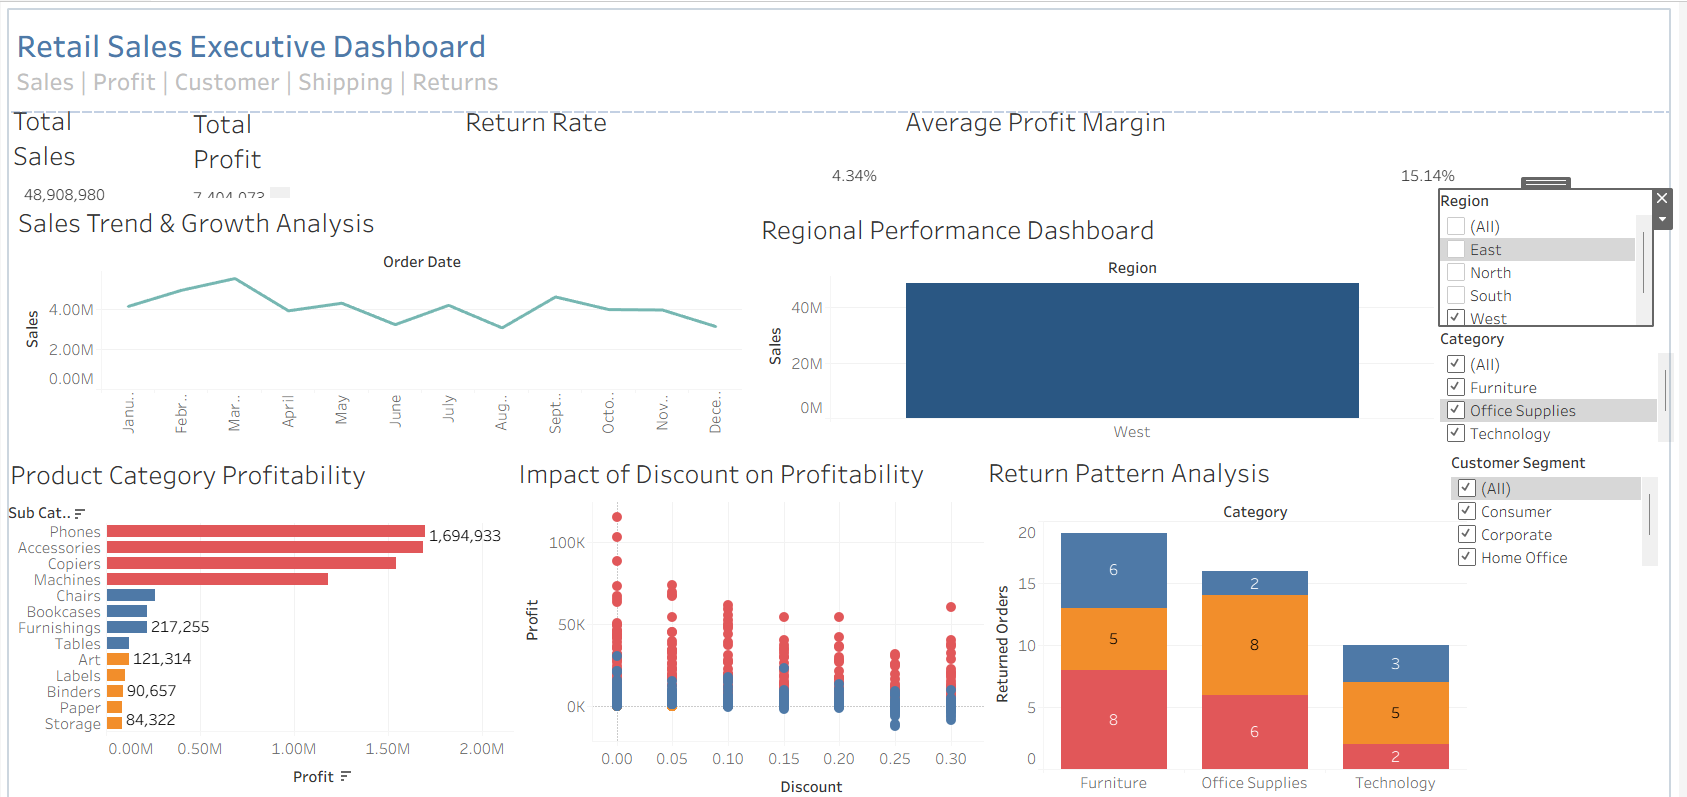

Layout of this report page (visuals, bound fields, positions):
{"tool":"tableau","page":{"name":"Dashboard 1","canvas":[1000,1000],"units":"permille","ordinal":0},"visuals":[{"type":"title","box":[4.8,9.9,990.5,125.2]},{"type":"worksheet","title":"KPI 1","mark":"Automatic","box":[4.8,119.9,332.7,136.3]},{"type":"worksheet","title":"KPI 4","mark":"Automatic","box":[274.4,121,250.5,126.9]},{"type":"worksheet","title":"KPI 3","mark":"Automatic","box":[536.3,121,332.7,126.9]},{"type":"worksheet","title":"KPI 2","mark":"Automatic","box":[111.9,123.4,332.7,119.9]},{"type":"filter","title":"Regional_Performance","param":"[federated.0at7kfx09w65li11gtrid1btg7by].[none:region:nk]","box":[857.6,232.7,126.2,168]},{"type":"worksheet","title":"Sales_Trend","mark":"Automatic","rows":["sales"],"cols":["order_date"],"box":[7.7,246.8,434,290.2]},{"type":"worksheet","title":"Regional_Performance","mark":"Automatic","rows":["sales"],"cols":["region"],"box":[450.3,255,403.4,291.4]},{"type":"filter","title":"Category_Profitability","param":"[federated.0at7kfx09w65li11gtrid1btg7by].[none:category:nk]","box":[857.6,404.2,139.6,141]},{"type":"worksheet","title":"Return_Analysis","mark":"Automatic","rows":["return_flag"],"cols":["category"],"box":[586,557,287.8,443]},{"type":"worksheet","title":"Discount_vs_Profit","mark":"Circle","rows":["profit"],"cols":["discount"],"box":[305.9,558.2,307.8,436]},{"type":"filter","title":"Return_Analysis","param":"[federated.0at7kfx09w65li11gtrid1btg7by].[none:customer_segment:nk]","box":[864.2,558.2,123.3,141]},{"type":"worksheet","title":"Category_Profitability","mark":"Automatic","rows":["sub_category"],"cols":["profit"],"box":[2.9,559.3,306.9,423]}]}

Visuals, with their boxes on the dashboard's canvas, which has no fixed pixel size, in thousandths of its width and height (x1, y1, x2, y2). These are canvas units, not pixel positions in the 1687x797 screenshot, which may show the page scaled, cropped or inside an application window:
title: bbox(5, 10, 995, 135)
"KPI 1" worksheet: bbox(5, 120, 338, 256)
"KPI 4" worksheet: bbox(274, 121, 525, 248)
"KPI 3" worksheet: bbox(536, 121, 869, 248)
"KPI 2" worksheet: bbox(112, 123, 445, 243)
"Regional_Performance" filter: bbox(858, 233, 984, 401)
"Sales_Trend" worksheet: bbox(8, 247, 442, 537)
"Regional_Performance" worksheet: bbox(450, 255, 854, 546)
"Category_Profitability" filter: bbox(858, 404, 997, 545)
"Return_Analysis" worksheet: bbox(586, 557, 874, 1000)
"Discount_vs_Profit" worksheet (Circle marks): bbox(306, 558, 614, 994)
"Return_Analysis" filter: bbox(864, 558, 988, 699)
"Category_Profitability" worksheet: bbox(3, 559, 310, 982)
